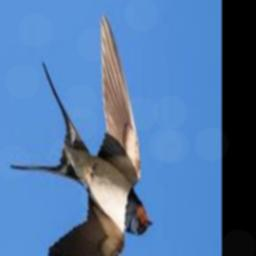Swallow: (10, 17, 153, 256)
